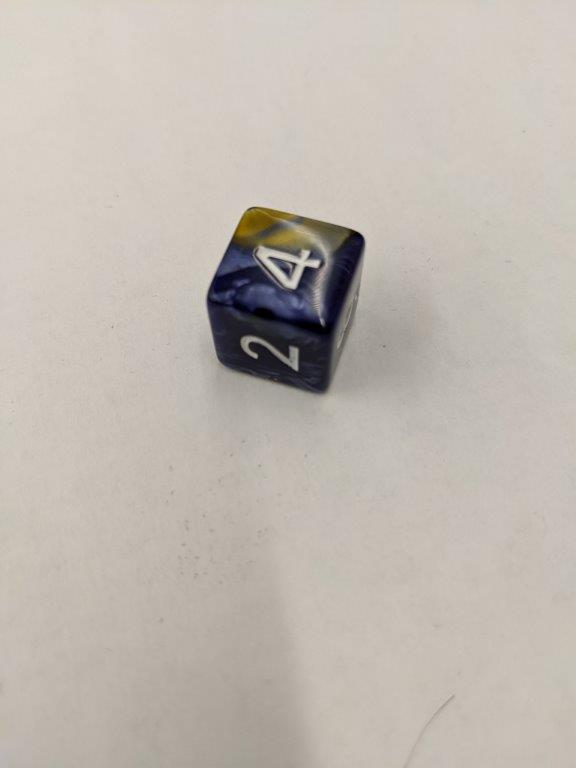d6-4: (206, 203, 365, 392)
